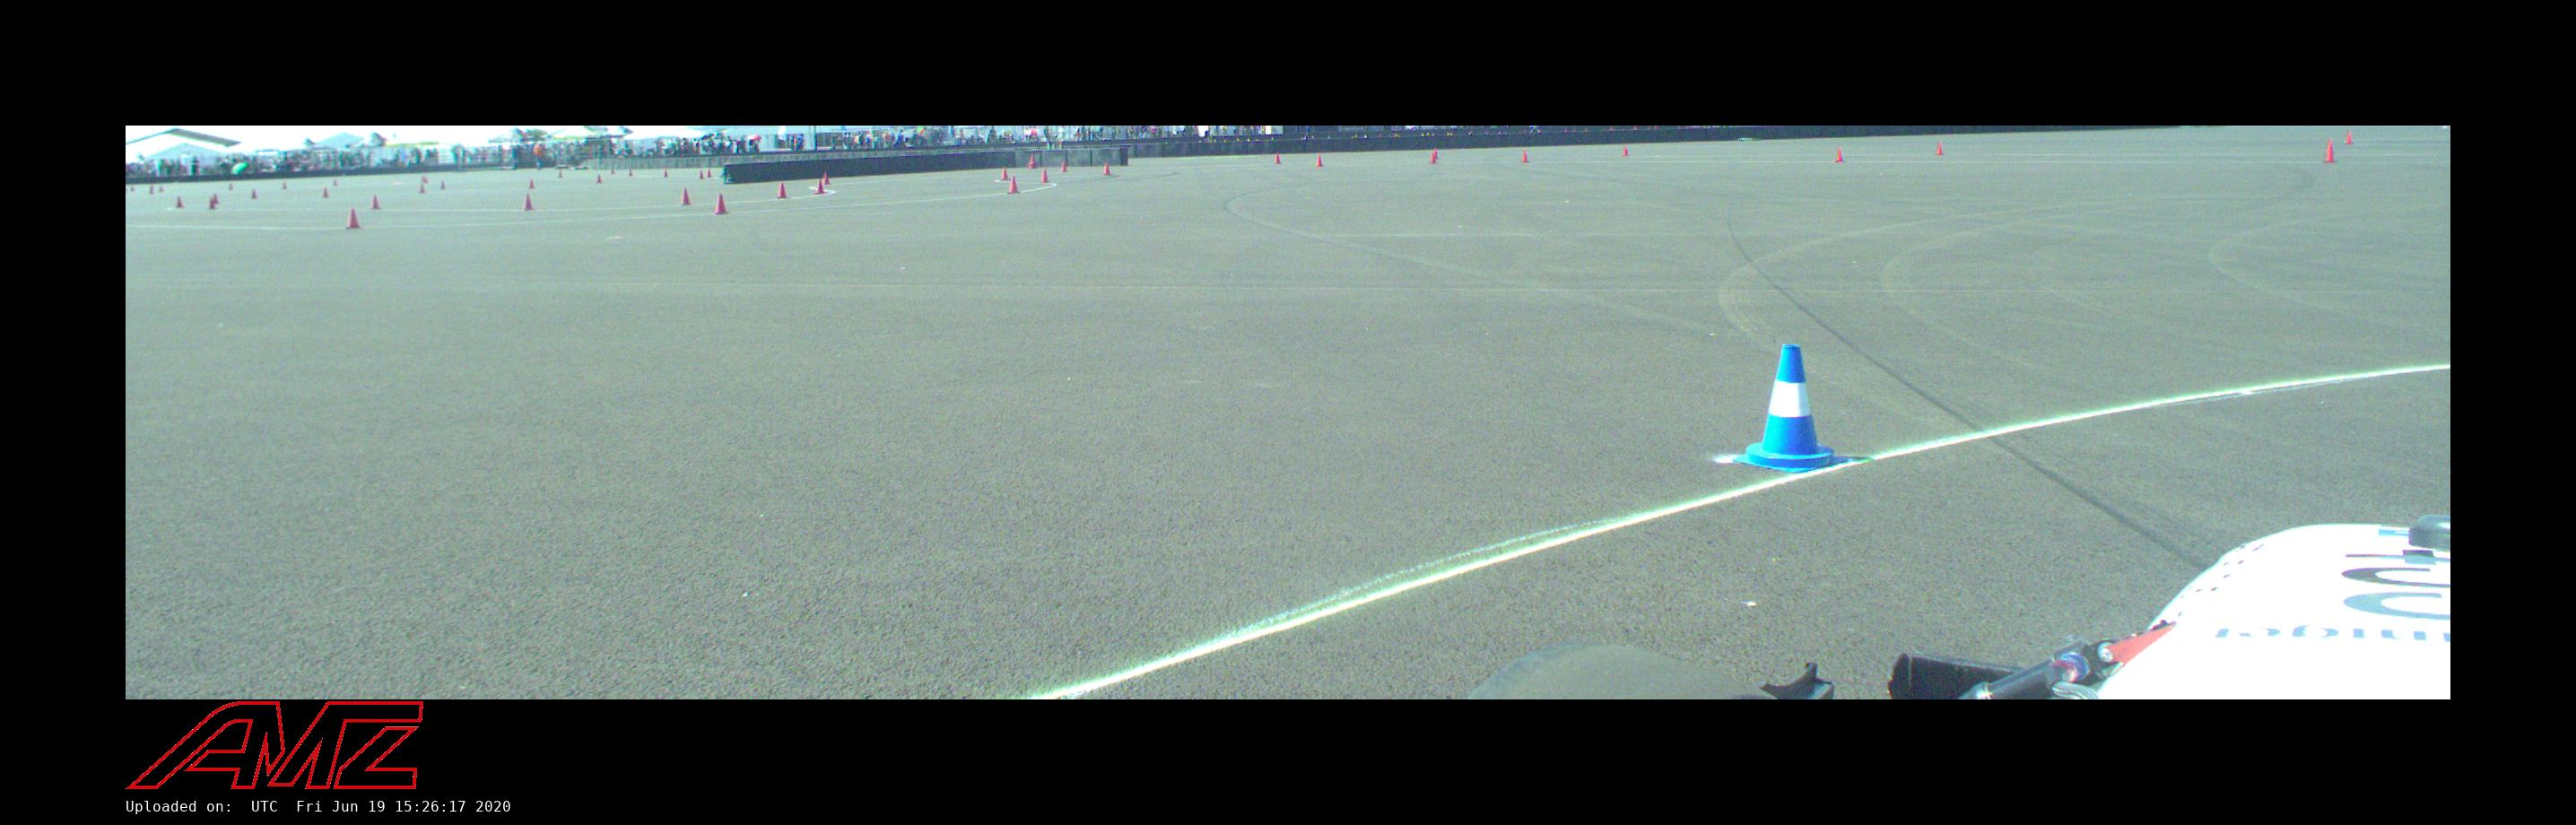blue_cone: (1738, 345, 1843, 473)
